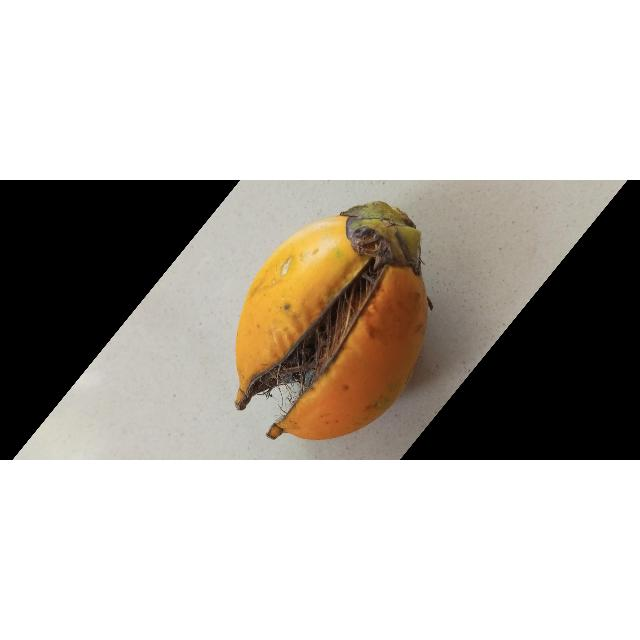damaged: (234, 202, 430, 441)
